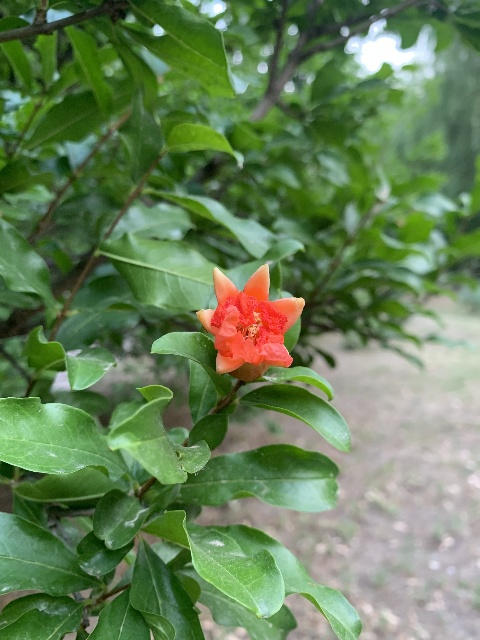flower: (196, 263, 303, 380)
